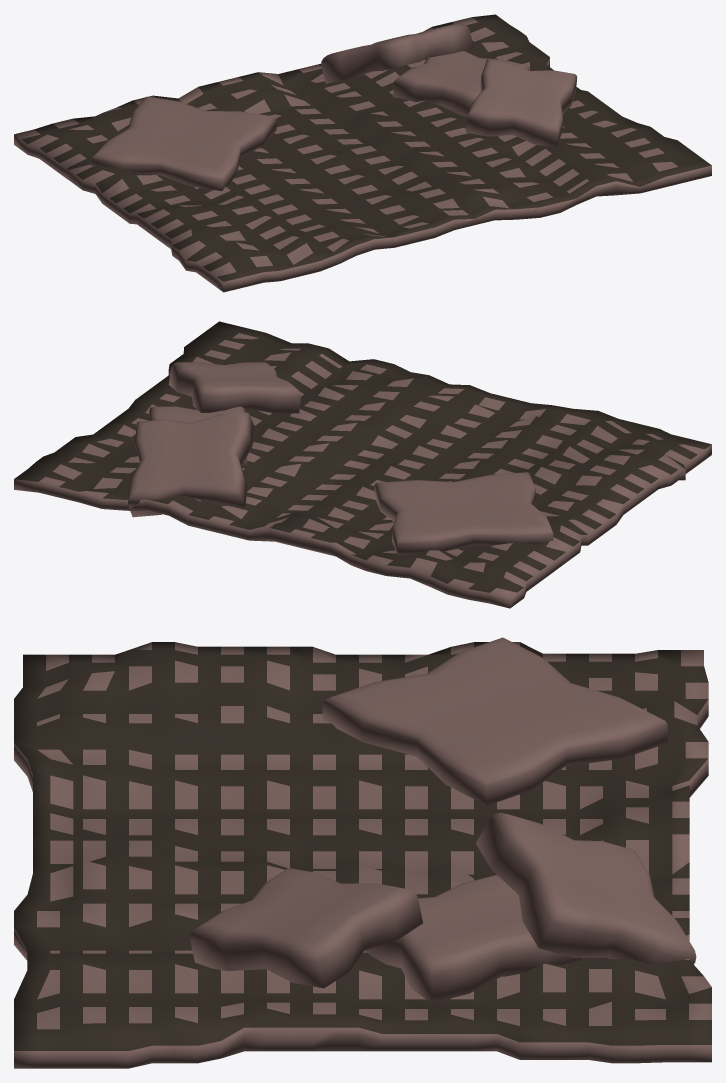
Rendered from cama.fbx.
The picture shows the model from 3 angles, top to bottom: view 1: azimuth 30°, elevation 25°; view 2: azimuth 150°, elevation 25°; view 3: azimuth 270°, elevation 25°; orthographic projection. The views are drawn at different scales.
Parts seen in each view (by area): view 1: Plane.003; view 2: Plane.003; view 3: Plane.003.
Boxes of the visible parts, x1,y1,x2,y2 form: Plane.003: (14, 14, 711, 292); Plane.003: (14, 321, 711, 608); Plane.003: (14, 637, 711, 1068).
Bounding box in the file's own units: 277 × 41.66 × 204.
